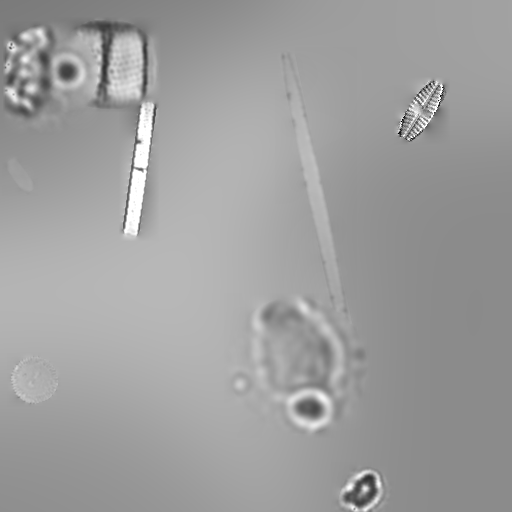AUGA: (116, 95, 162, 243)
AUPU: (50, 13, 164, 115)
CMEN: (0, 346, 68, 414)
NANT: (0, 149, 43, 201)
PTLA: (387, 70, 457, 152)
TFAS: (272, 44, 360, 346)
